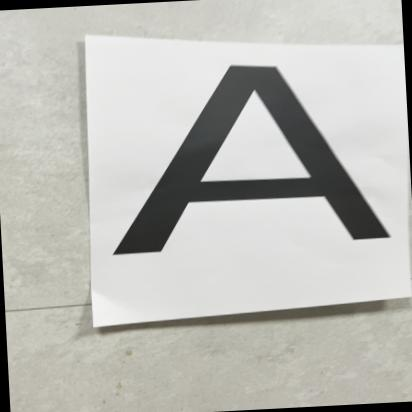seat: (91, 48, 410, 294)
